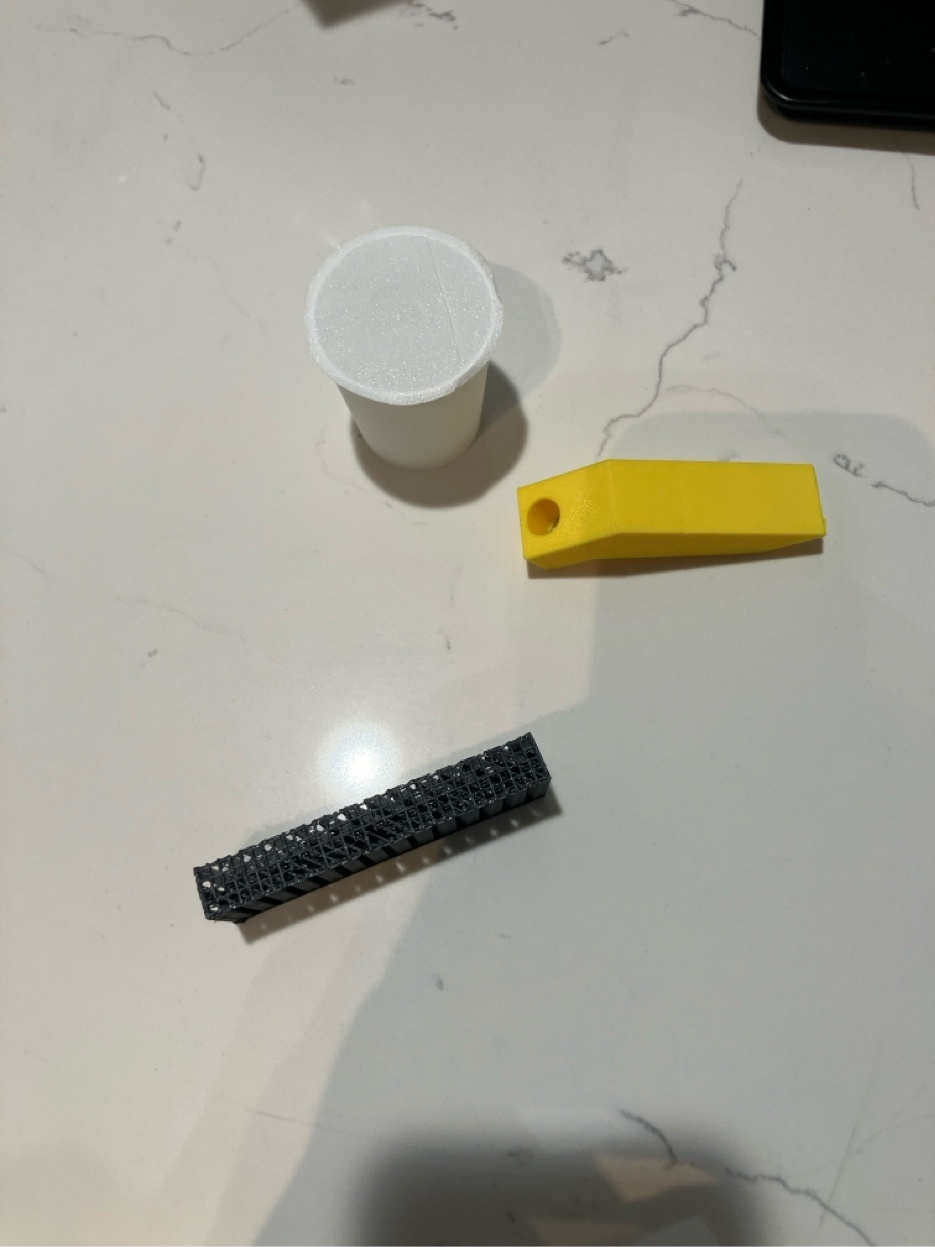bracket: (517, 458, 827, 578)
cup: (303, 245, 498, 470)
slotted_block: (194, 734, 559, 924)
